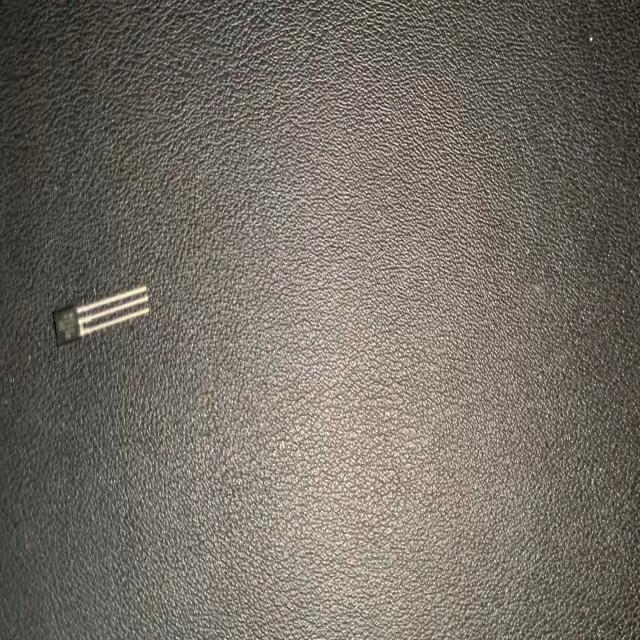BJT: (50, 280, 151, 351)
